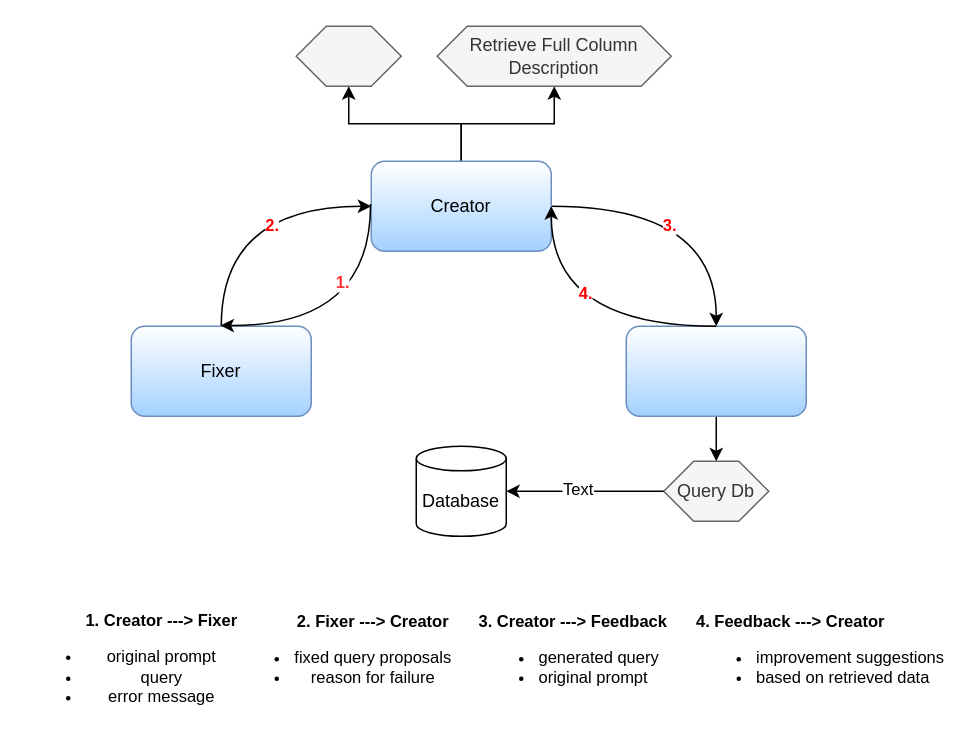
Image size: 971x750. Some labels were removed from this diagram. The shapes that lost their labels are listed below. From the top down, each one's centre as x and y in pixels, then its label:
At (348,55): "Syntax Check".
At (715,370): "Feedback".
